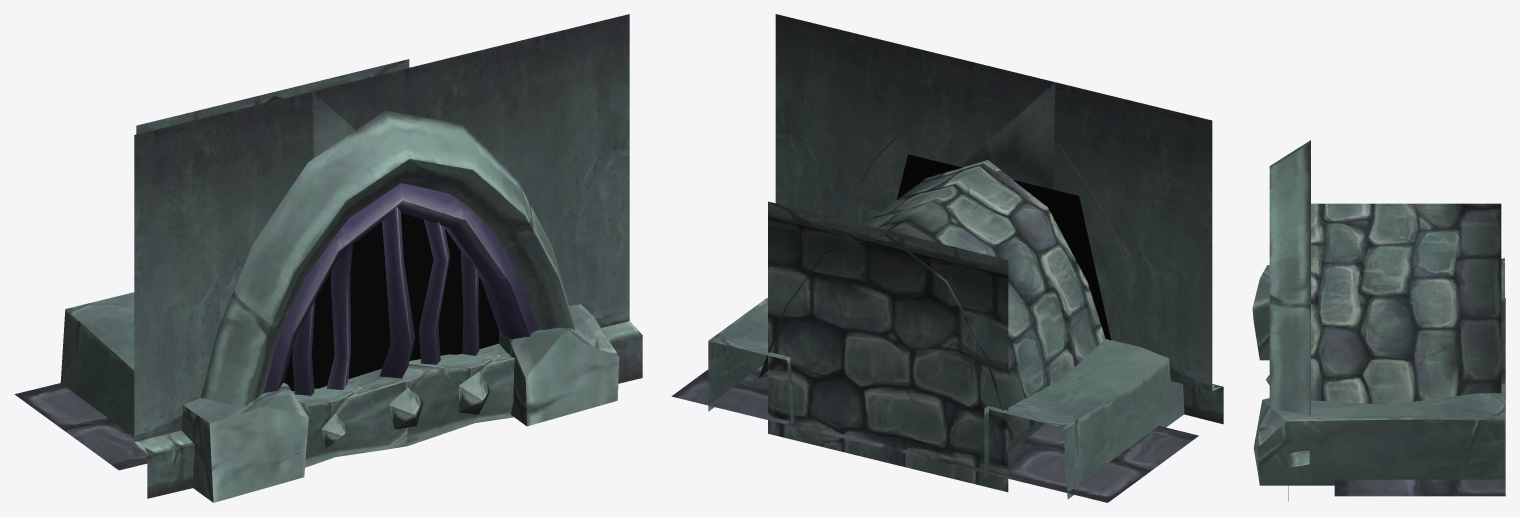
Rendered from crypt_half_straight_05.fbx.
3 renders of one model, left to right at view 1: azimuth 30°, elevation 25°; view 2: azimuth 150°, elevation 25°; view 3: azimuth 270°, elevation 25°, orthographic. The views are drawn at different scales.
Visible parts, largest first — view 1: crypt_half_straight_05-0; view 2: crypt_half_straight_05-0; view 3: crypt_half_straight_05-0.
Boxes of the visible parts, <box> form: crypt_half_straight_05-0: <box>14,14,642,502</box>; crypt_half_straight_05-0: <box>671,14,1223,502</box>; crypt_half_straight_05-0: <box>1252,140,1505,501</box>.
Size of the model in its own units: 4.01 by 2.83 by 2.16.
